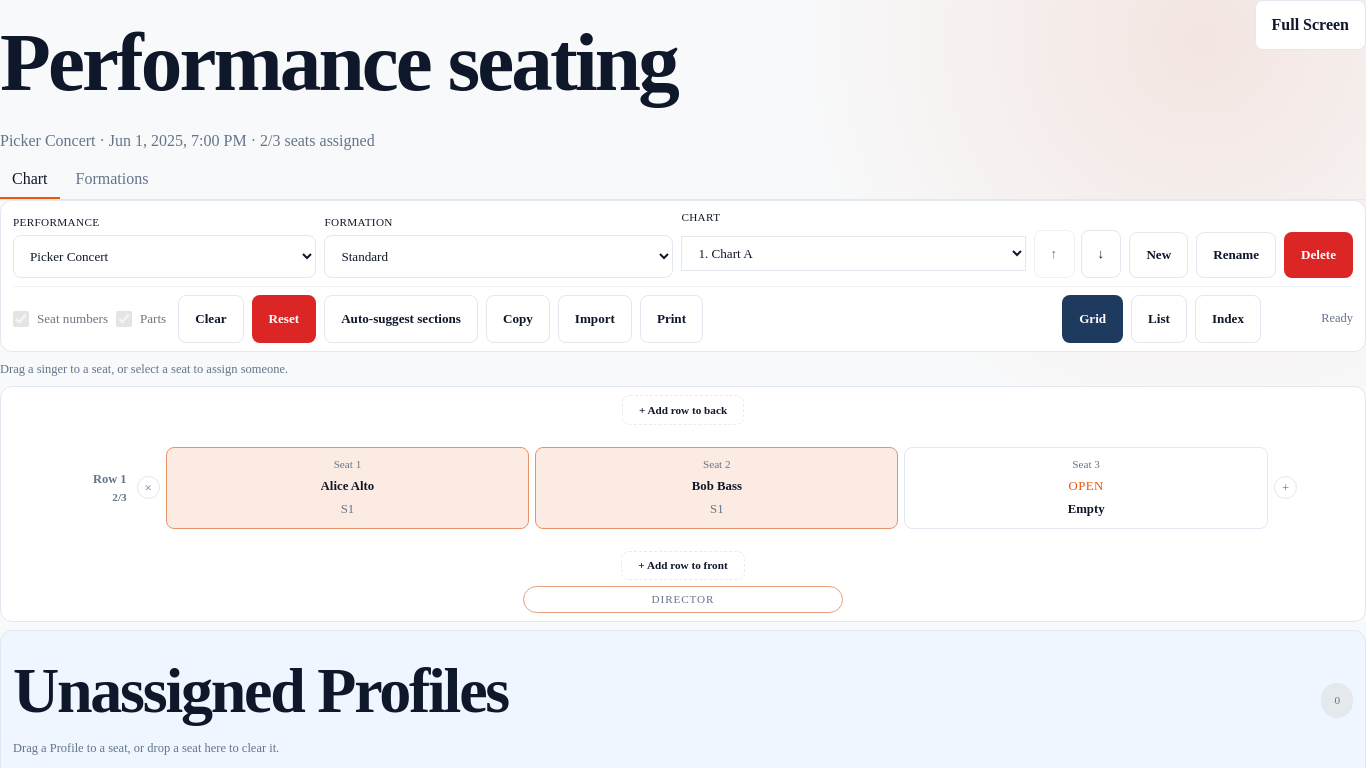
Test: Seat assignment candidate picker › explains no attending RSVPs in both the tray and seat dialog
Click the button named "Seat 3, empty": {"x": 1086, "y": 488} [904,447,1268,529]
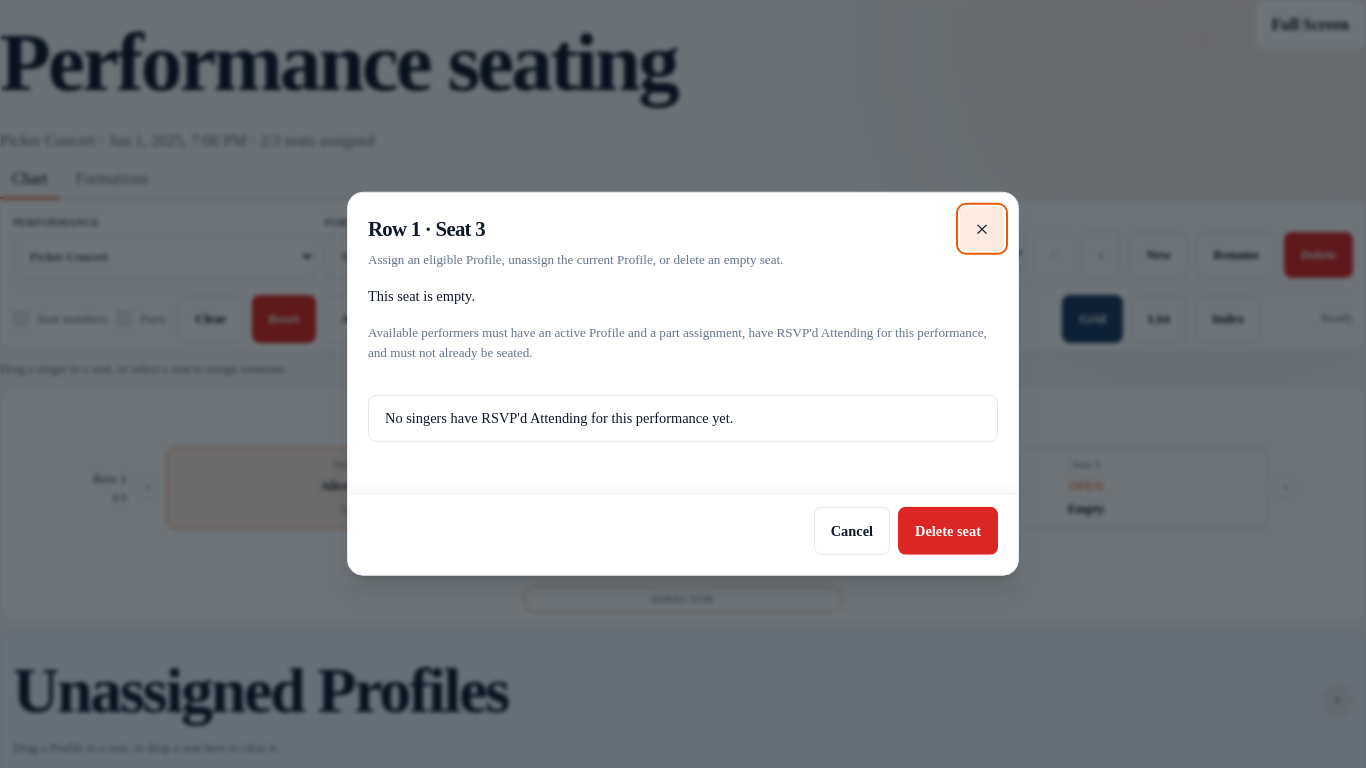
Expected: the text "No singers have RSVP'd Attending for this performance yet." is shown, [368,395,998,442]
Expected: the dialog shows "have RSVP'd Attending", [368,325,987,360]
Expected: the button "Cancel" is enabled, [814,507,890,555]
